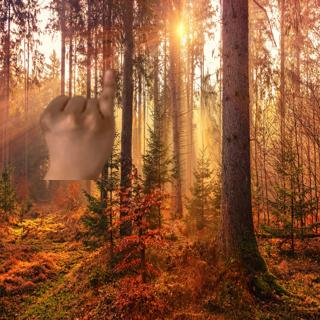FINE: (37, 67, 121, 173)
